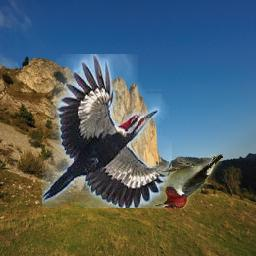Woodpecker: (42, 54, 172, 208), (153, 155, 223, 210)
